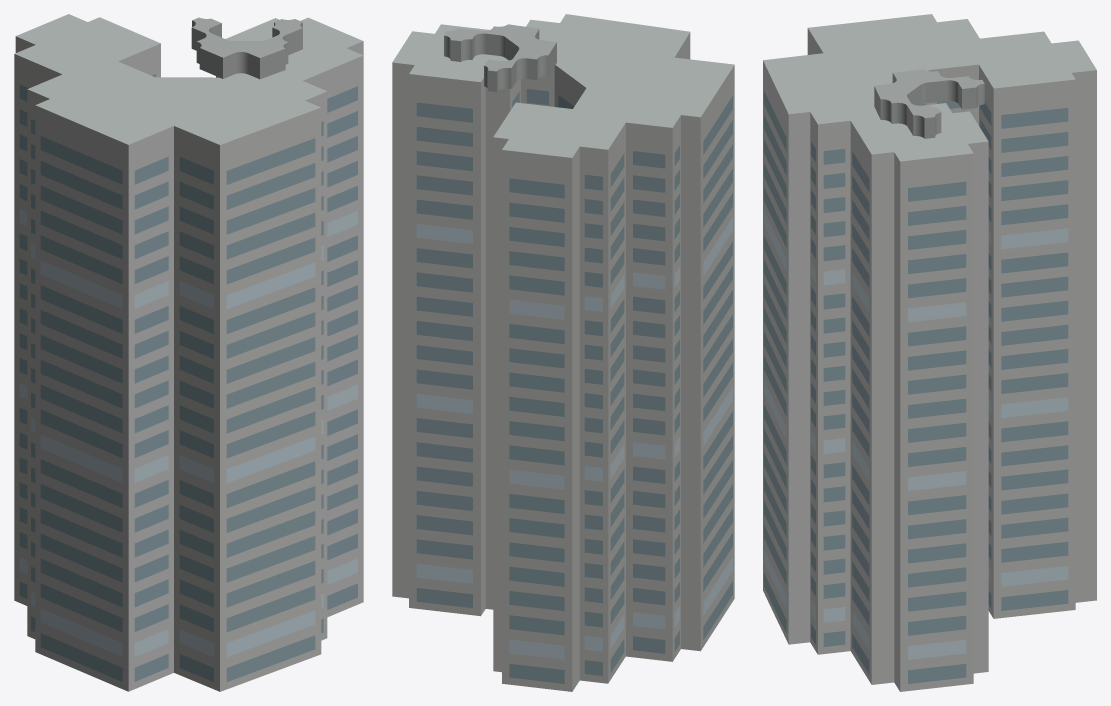
The model's file is fallback-mapo-raemian-prugio-104.glb.
3 views of the same model, side by side, from view 1: azimuth 30°, elevation 25°; view 2: azimuth 150°, elevation 25°; view 3: azimuth 270°, elevation 25° (orthographic). The views are drawn at different scales.
Visible parts, largest first — view 1: fallback-mapo-raemian-prugio-104; view 2: fallback-mapo-raemian-prugio-104; view 3: fallback-mapo-raemian-prugio-104.
Boxes of the visible parts, box(x1,y1,x2,y2) form: fallback-mapo-raemian-prugio-104: box(14, 14, 363, 691); fallback-mapo-raemian-prugio-104: box(392, 14, 734, 691); fallback-mapo-raemian-prugio-104: box(763, 14, 1096, 691).
Bounding box in the file's own units: 36.77 × 64 × 35.16.
